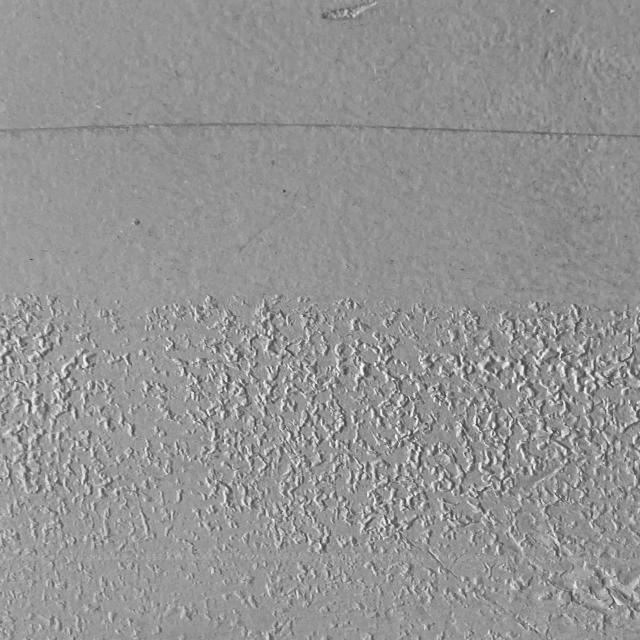rough and patchy surface: (0, 295, 640, 640)
